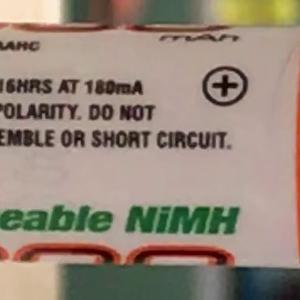keyword: (115, 195, 250, 245)
